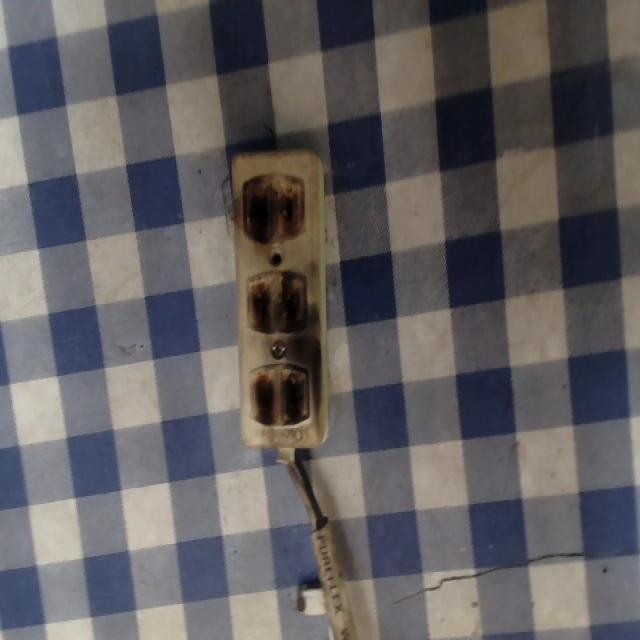-: (242, 356, 320, 431), (241, 267, 318, 341), (236, 172, 314, 244)
